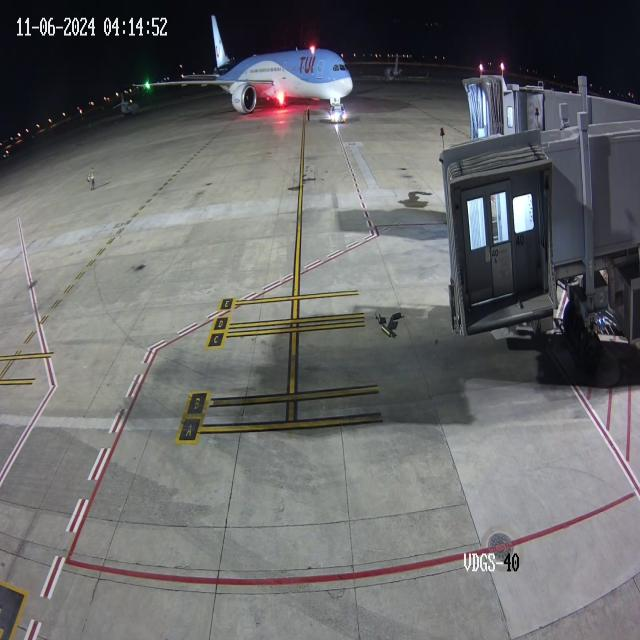bridge: (489, 71, 545, 139)
plane: (118, 0, 360, 125)
window: (331, 62, 350, 74)
